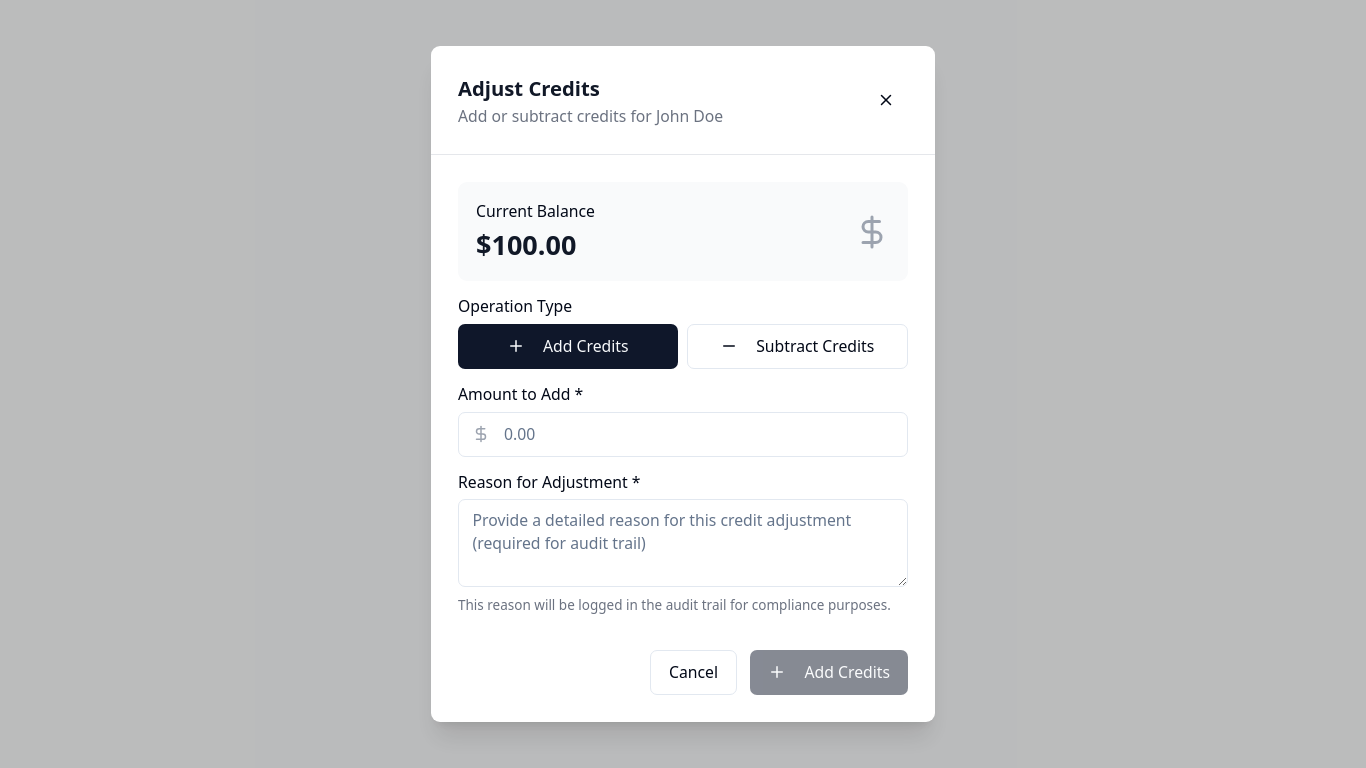
CreditAdjustModal › shows balance preview
Type "50" into the number field with placeholder "0.00" at (683, 434), box [458,412,908,457]
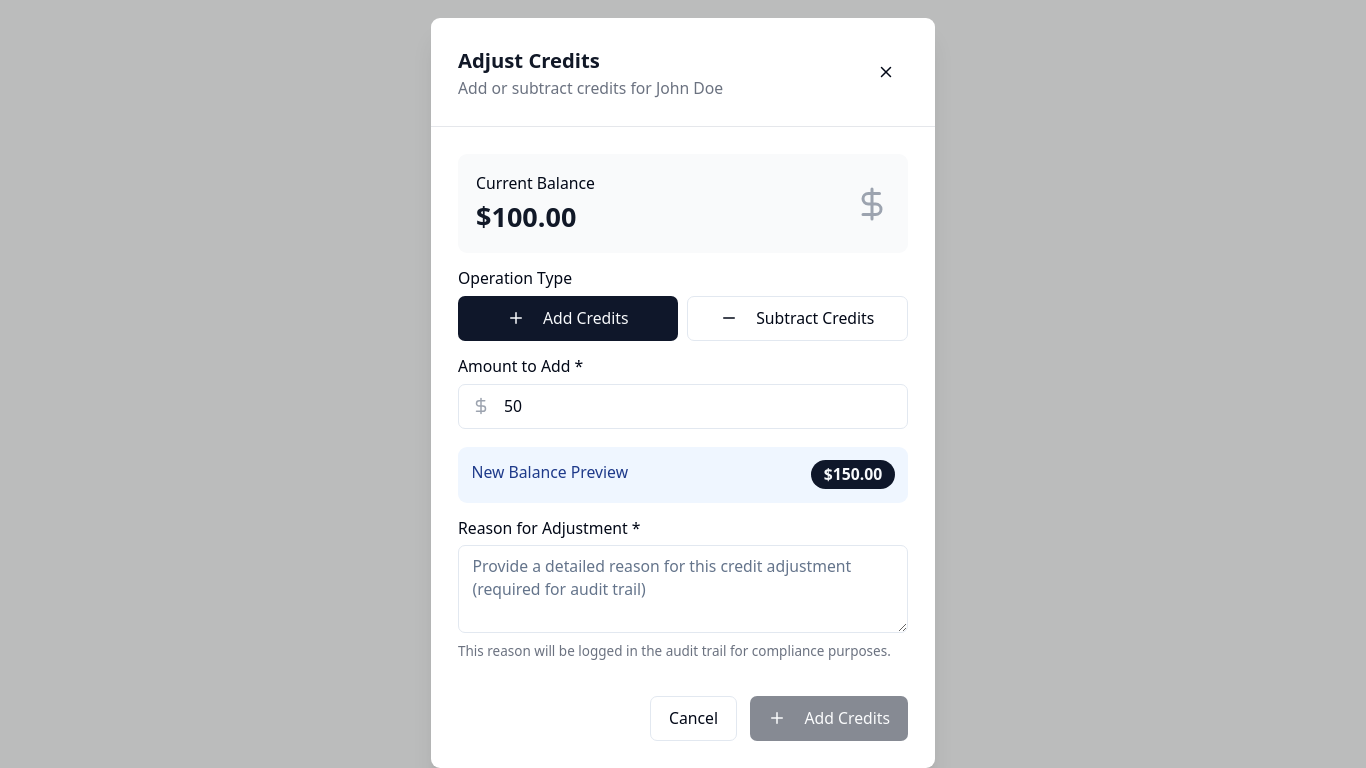
Expected: the text "New Balance Preview" is shown, [472,461,628,484]
Expected: the text "$150.00" is shown, [812,460,894,489]
